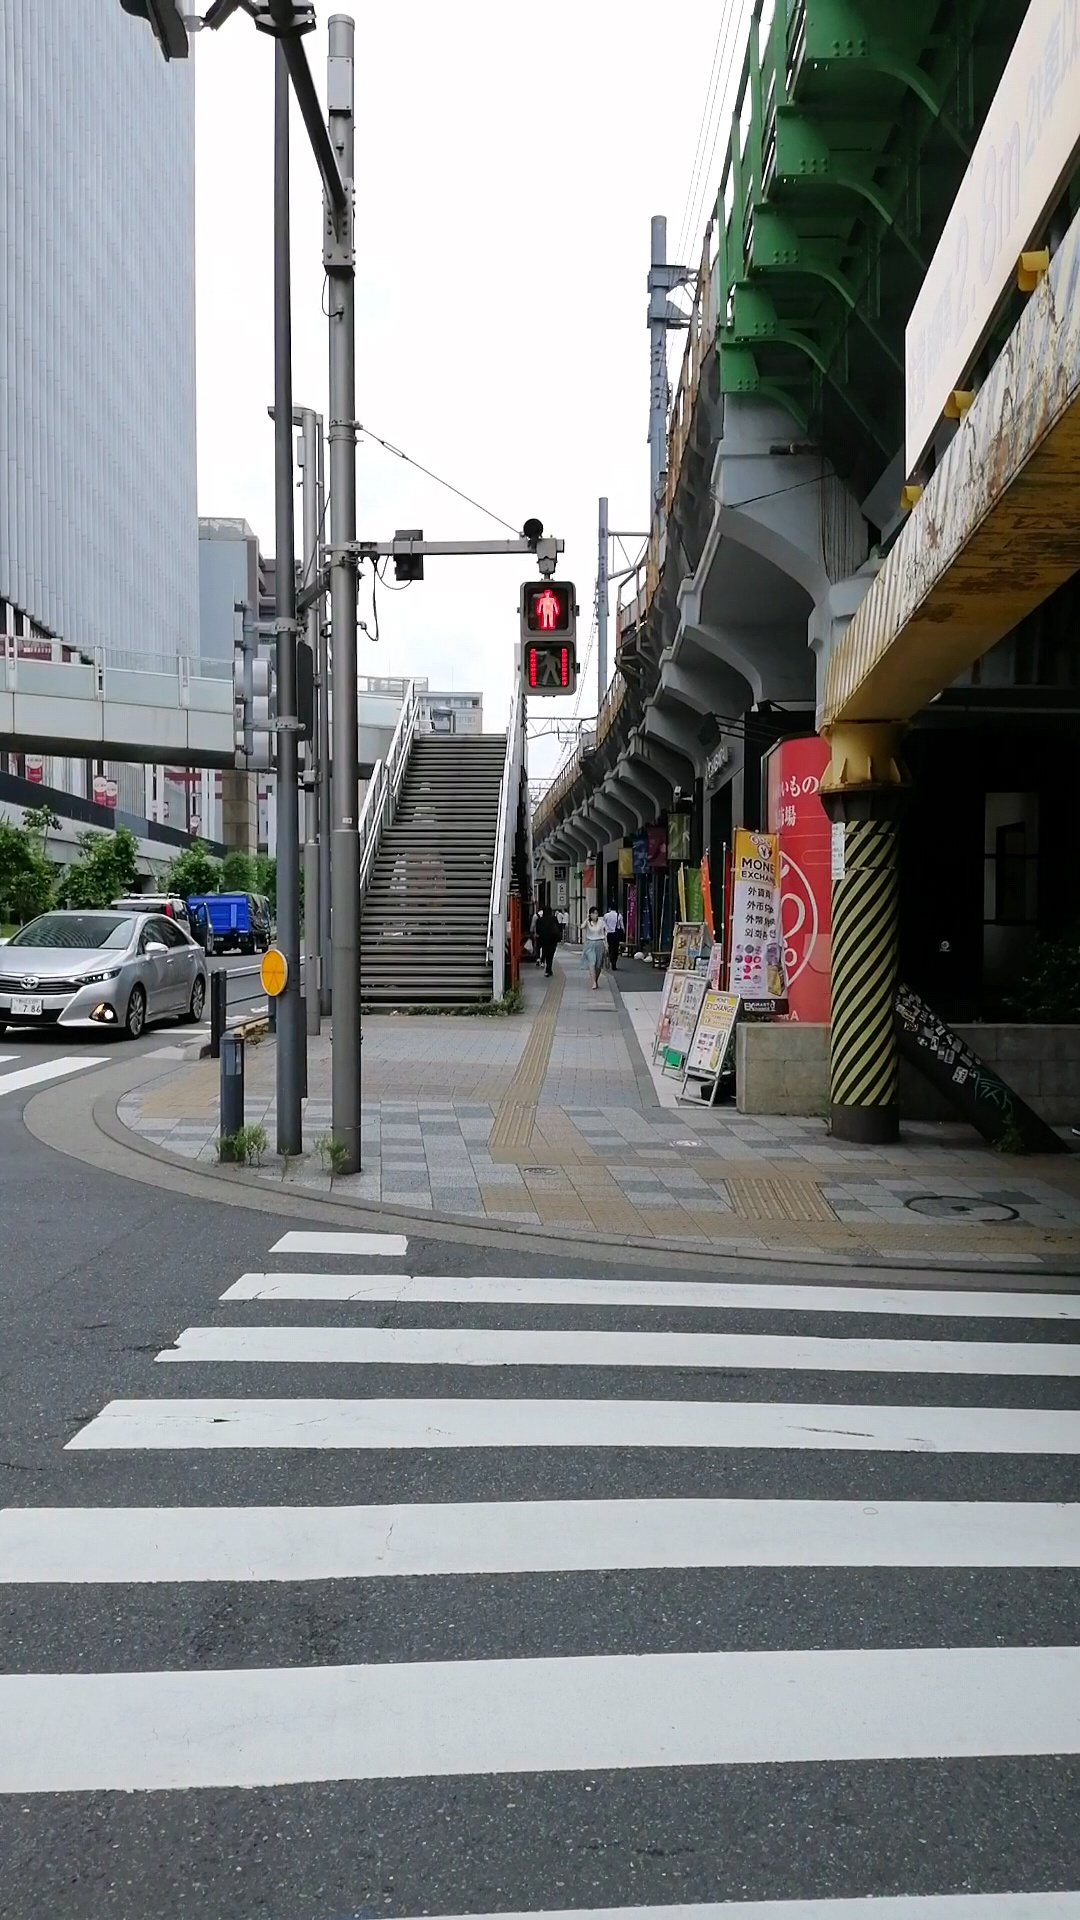red: (518, 579, 578, 695)
